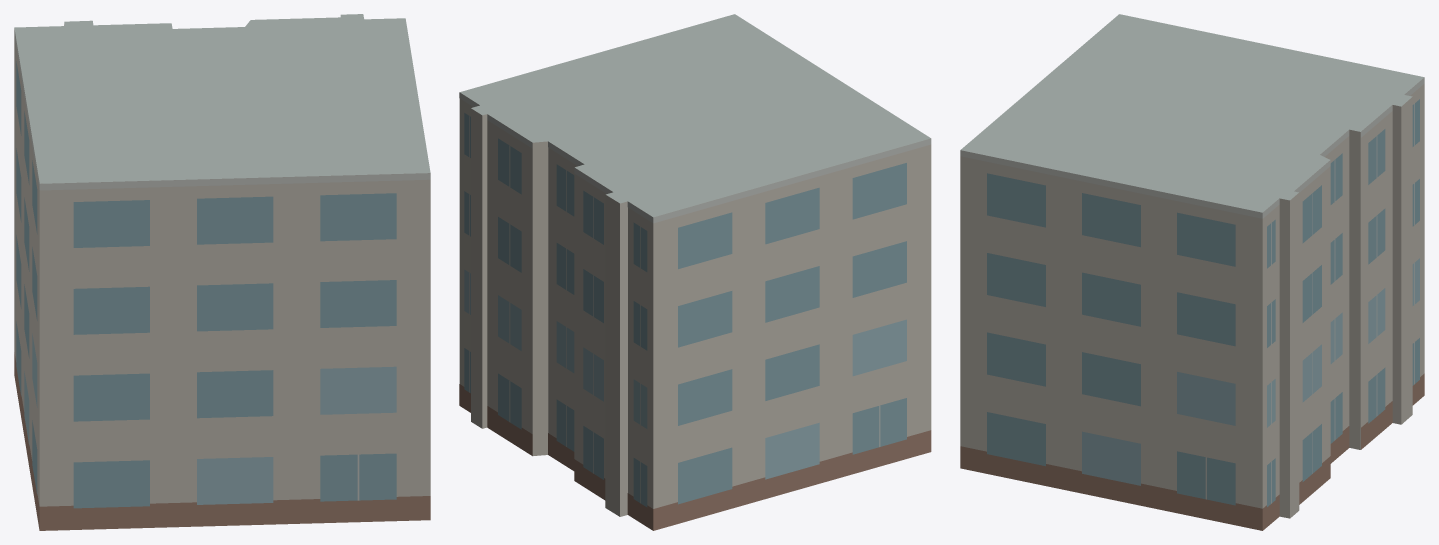
Rendered from survey-upis-32777892.glb.
3 views of the same model, side by side, from view 1: azimuth 30°, elevation 25°; view 2: azimuth 150°, elevation 25°; view 3: azimuth 270°, elevation 25° (orthographic). The views are drawn at different scales.
Parts seen in each view (by area): view 1: survey-upis-32777892.tmp; view 2: survey-upis-32777892.tmp; view 3: survey-upis-32777892.tmp.
Boxes of the visible parts, x1,y1,x2,y2 form: survey-upis-32777892.tmp: (14,14,430,530); survey-upis-32777892.tmp: (459,14,931,530); survey-upis-32777892.tmp: (960,14,1424,530).
Size of the model in its own units: 17.02 by 12.7 by 16.81.
